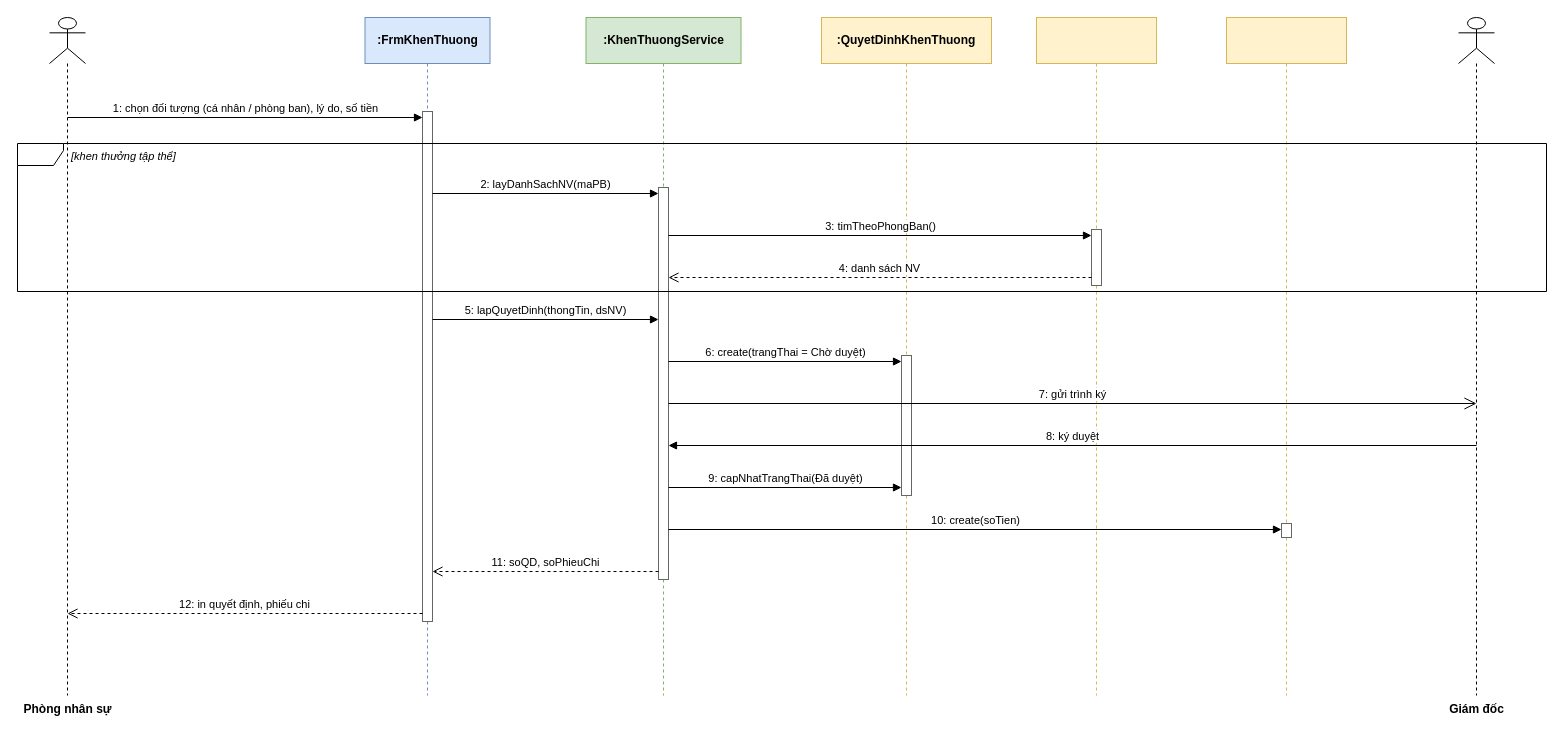
Some shapes in this 1564 by 734 pixel diagram are drawn without their labels. The shapes that lost their labels are listed below. From the top down, each one's box as (x1, y1, x2, y2) in pixels, then its label:
(16, 142, 1546, 292): opt
(1036, 16, 1156, 696): :NhanVien
(1226, 16, 1346, 696): :PhieuChi
